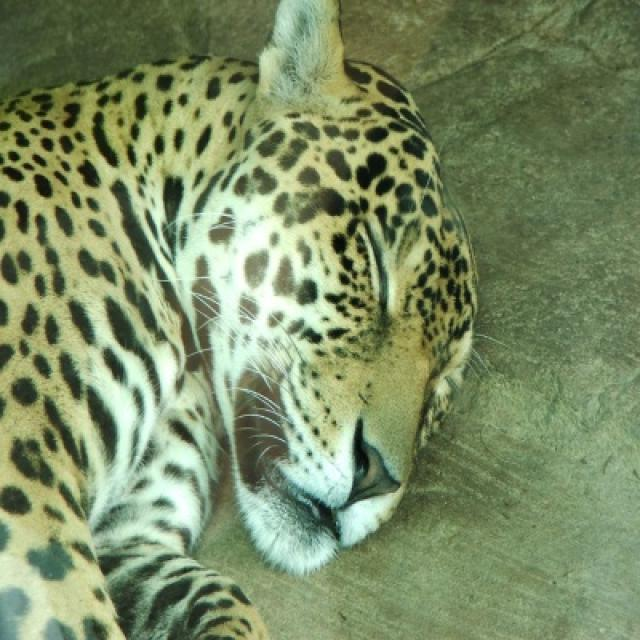Jaguar: (0, 0, 478, 638)
